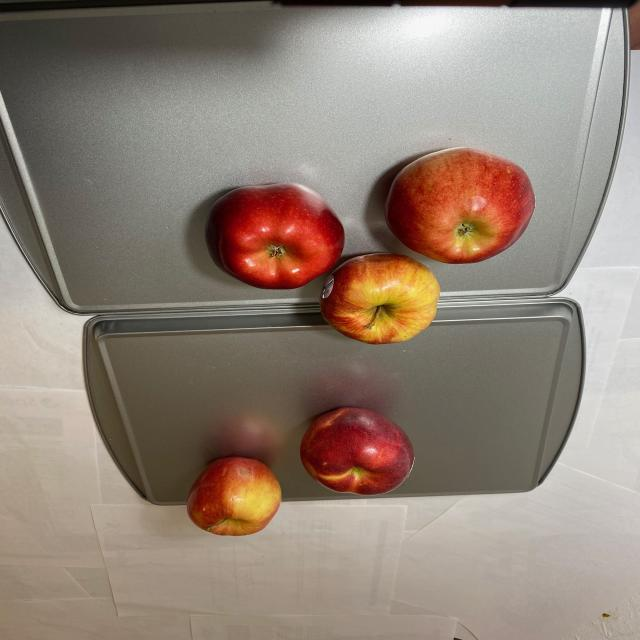apple: (200, 148, 540, 346), (178, 394, 418, 536)
